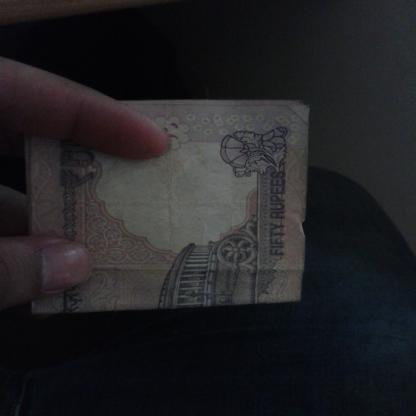Old50Back: (28, 98, 313, 313)
